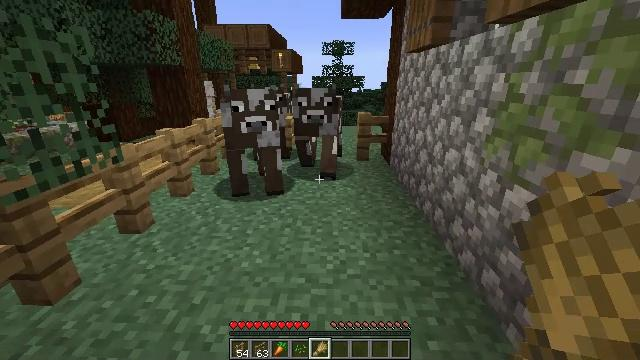cow: (222, 92, 290, 196), (291, 90, 342, 180)
